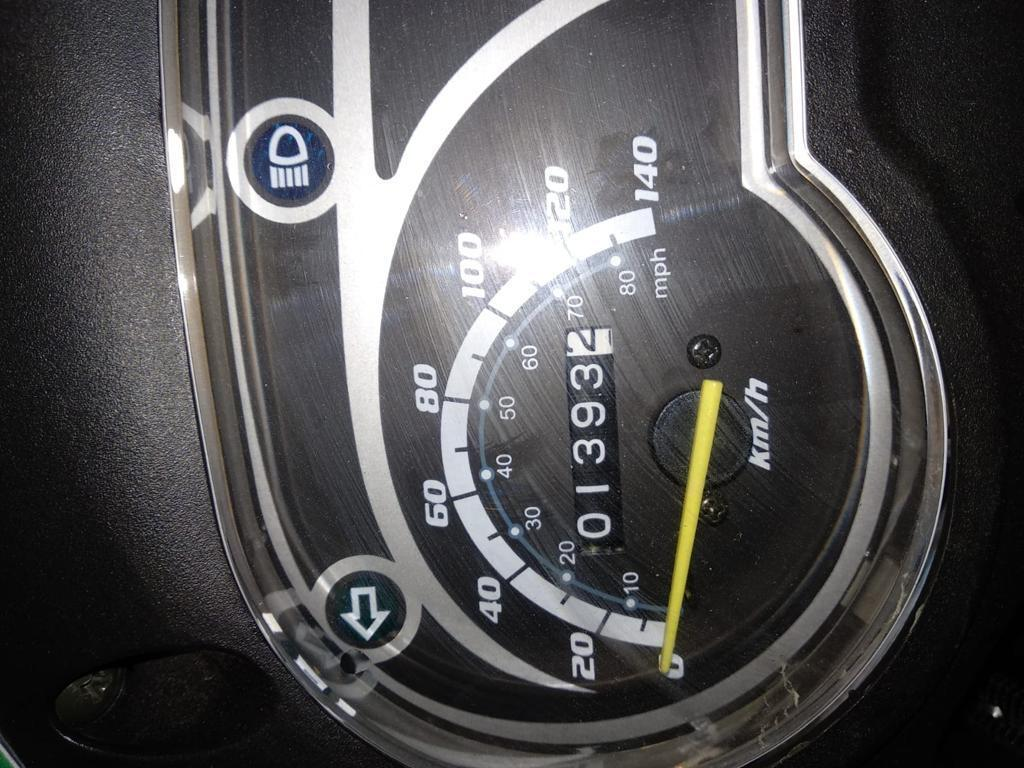0: (574, 511, 614, 540), (561, 539, 575, 554)
1: (568, 475, 616, 498)
2: (561, 325, 599, 354)
3: (566, 436, 610, 468), (564, 361, 605, 392)
9: (566, 399, 610, 429)
odometer: (560, 322, 629, 558)
